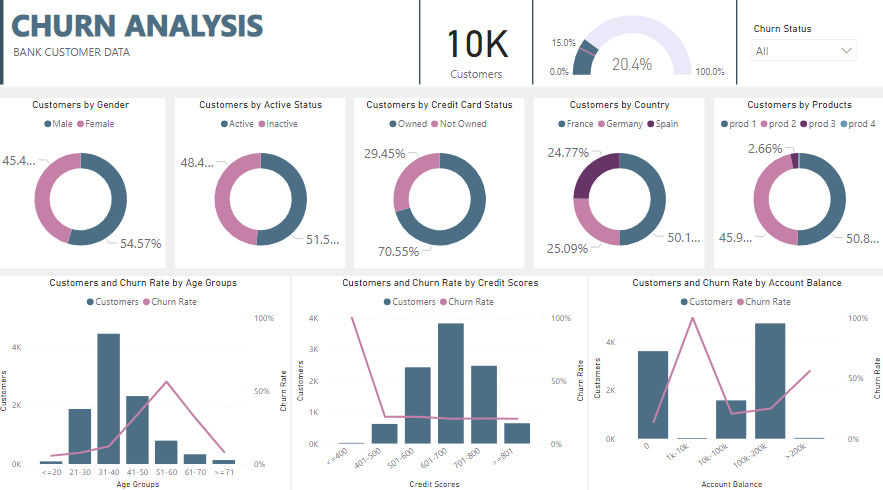

Layout of this report page (visuals, bound fields, positions):
{"tool":"powerbi","page":{"name":"Churn Analysis","canvas":[1280,720],"ordinal":0},"visuals":[{"type":"shape","box":[0,11.5,1280.2,126.7],"z":0},{"type":"card","fields":{"Values":["Customer Data.Customers"]},"box":[610.6,22.8,162.7,112.3],"z":1000},{"type":"donutChart","fields":{"Category":["Customer Data.Gender"],"Y":["Customer Data.Customers"]},"box":[0,154.1,244.8,244.8],"z":2000},{"type":"donutChart","fields":{"Category":["Customer Data.Active Status"],"Y":["Customer Data.Customers"]},"box":[258.8,154.1,244.8,244.8],"z":3000},{"type":"donutChart","fields":{"Category":["Customer Data.Credit Card Status"],"Y":["Customer Data.Customers"]},"box":[517.6,154.1,244.8,244.8],"z":4000},{"type":"donutChart","fields":{"Y":["Customer Data.Customers"],"Category":["Customer Data.Country"]},"box":[776.4,154.1,244.8,244.8],"z":5000},{"type":"donutChart","fields":{"Y":["Customer Data.Customers"],"Category":["Customer Data.Products"]},"box":[1035.2,154.1,244.8,244.8],"z":6000},{"type":"lineStackedColumnComboChart","fields":{"Category":["Credit Score Groups.Credit Scores"],"Y":["Customer Data.Customers"],"Y2":["Customer Data.Churn Rate"]},"box":[427.7,410.4,425,309.6],"z":7000},{"type":"lineStackedColumnComboChart","fields":{"Category":["Age Groups.Age Groups"],"Y":["Customer Data.Customers"],"Y2":["Customer Data.Churn Rate"]},"box":[0,410,425,310],"z":8000},{"type":"lineStackedColumnComboChart","fields":{"Category":["Acount Balance Groups.Acount Balance"],"Y":["Customer Data.Customers"],"Y2":["Customer Data.Churn Rate"]},"box":[855,410.4,425,309.6],"z":9000},{"type":"slicer","fields":{"Values":["Customer Data.Churn Status"]},"box":[1078.6,40.8,172.8,76.3],"z":10000},{"type":"gauge","fields":{"Y":["Customer Data.Churn Rate"],"MinValue":["Min(Customer Data.Min Churn Rate)"],"MaxValue":["Max(Customer Data.Max Churn Rate)"],"TargetValue":["Min(Customer Data.Target Churn Rate)"]},"box":[787.7,21.4,272.2,115.2],"z":11000},{"type":"textbox","box":[17,13,385.9,74],"z":12000},{"type":"textbox","box":[20,70.6,207.4,38.9],"z":13000},{"type":"shape","box":[751.7,11.5,43.2,123.8],"z":13001},{"type":"shape","box":[589,11.5,43.2,123.8],"z":13002},{"type":"shape","box":[1045.4,11.5,43.2,123.8],"z":13003},{"type":"shape","box":[0,11.5,14.4,123.8],"z":13004}]}

Visuals, with their boxes in screenshot pixels (x1, y1, x2, y2), scaled from the page's 1280x720 canvas onto the 883x490 screenshot:
shape: <bbox>0, 8, 882, 94</bbox>
card - Customer Data.Customers: <bbox>421, 16, 533, 92</bbox>
donutChart - Customer Data.Gender x Customer Data.Customers: <bbox>0, 105, 169, 271</bbox>
donutChart - Customer Data.Active Status x Customer Data.Customers: <bbox>179, 105, 347, 271</bbox>
donutChart - Customer Data.Credit Card Status x Customer Data.Customers: <bbox>357, 105, 526, 271</bbox>
donutChart - Customer Data.Customers x Customer Data.Country: <bbox>536, 105, 704, 271</bbox>
donutChart - Customer Data.Customers x Customer Data.Products: <bbox>714, 105, 882, 271</bbox>
lineStackedColumnComboChart - Credit Score Groups.Credit Scores x Customer Data.Customers: <bbox>295, 279, 588, 489</bbox>
lineStackedColumnComboChart - Age Groups.Age Groups x Customer Data.Customers: <bbox>0, 279, 293, 489</bbox>
lineStackedColumnComboChart - Acount Balance Groups.Acount Balance x Customer Data.Customers: <bbox>590, 279, 882, 489</bbox>
slicer - Customer Data.Churn Status: <bbox>744, 28, 863, 80</bbox>
gauge - Customer Data.Churn Rate x Min(Customer Data.Min Churn Rate): <bbox>543, 15, 731, 93</bbox>
textbox: <bbox>12, 9, 278, 59</bbox>
textbox: <bbox>14, 48, 157, 75</bbox>
shape: <bbox>519, 8, 548, 92</bbox>
shape: <bbox>406, 8, 436, 92</bbox>
shape: <bbox>721, 8, 751, 92</bbox>
shape: <bbox>0, 8, 10, 92</bbox>
